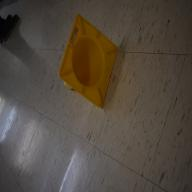cone: (58, 13, 118, 108)
